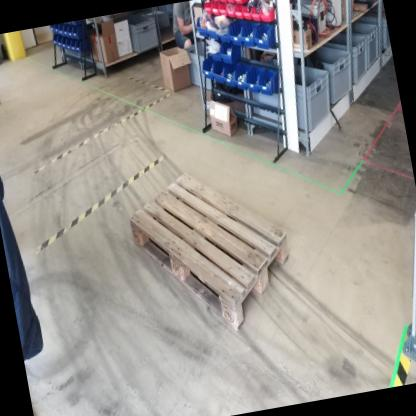BoxFace: (126, 166, 290, 339)
